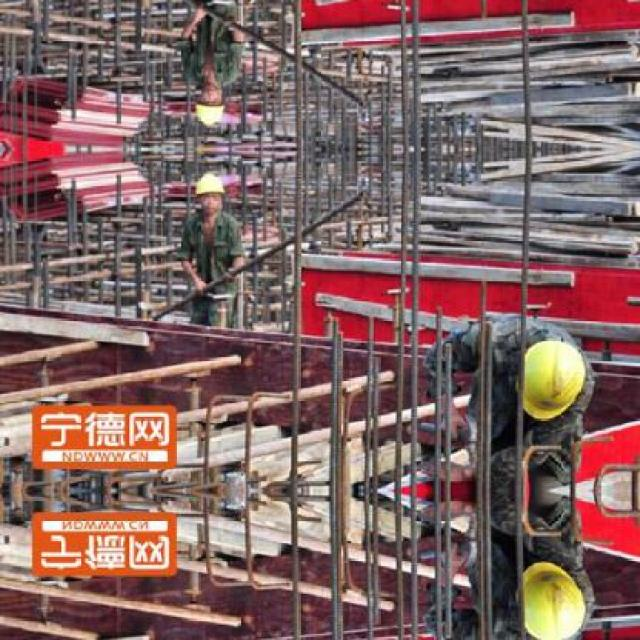helmet: (515, 334, 590, 426), (514, 554, 591, 638), (193, 170, 224, 216), (193, 80, 224, 126)
